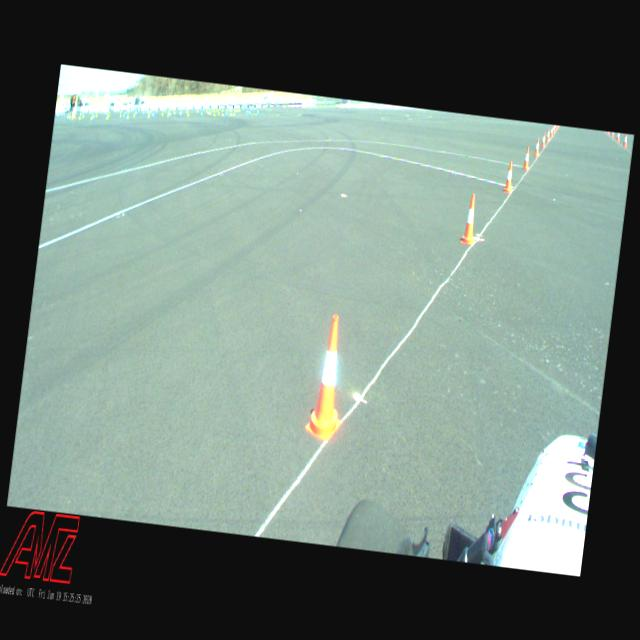blue_cone: (56, 111, 59, 118), (179, 110, 181, 118), (169, 110, 171, 118), (152, 111, 154, 118), (92, 113, 94, 120), (142, 108, 144, 115), (67, 114, 69, 120), (200, 111, 202, 116), (225, 111, 227, 116), (122, 114, 124, 118), (125, 110, 126, 114)
orange_cone: (304, 314, 353, 442), (460, 193, 480, 244), (504, 161, 514, 192), (522, 146, 530, 169), (533, 138, 540, 156), (540, 132, 546, 147), (622, 134, 628, 146), (546, 128, 550, 140), (550, 125, 554, 136)
yellow_cone: (213, 110, 216, 116), (78, 112, 80, 120), (90, 112, 92, 120), (106, 112, 108, 119), (148, 108, 150, 115), (161, 108, 163, 115), (95, 110, 97, 117), (148, 110, 150, 117), (126, 112, 128, 118), (119, 110, 121, 116), (82, 111, 84, 117), (108, 110, 110, 116), (167, 110, 169, 116), (133, 110, 135, 116), (187, 110, 189, 116), (68, 112, 70, 118), (222, 110, 224, 116), (206, 108, 208, 114), (208, 108, 210, 114), (218, 109, 219, 113)
